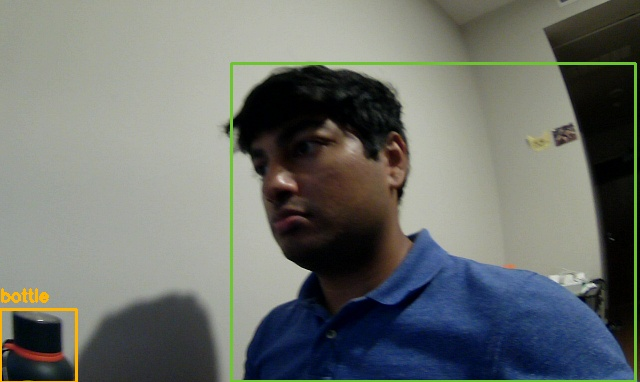bottle: (0, 309, 76, 382)
